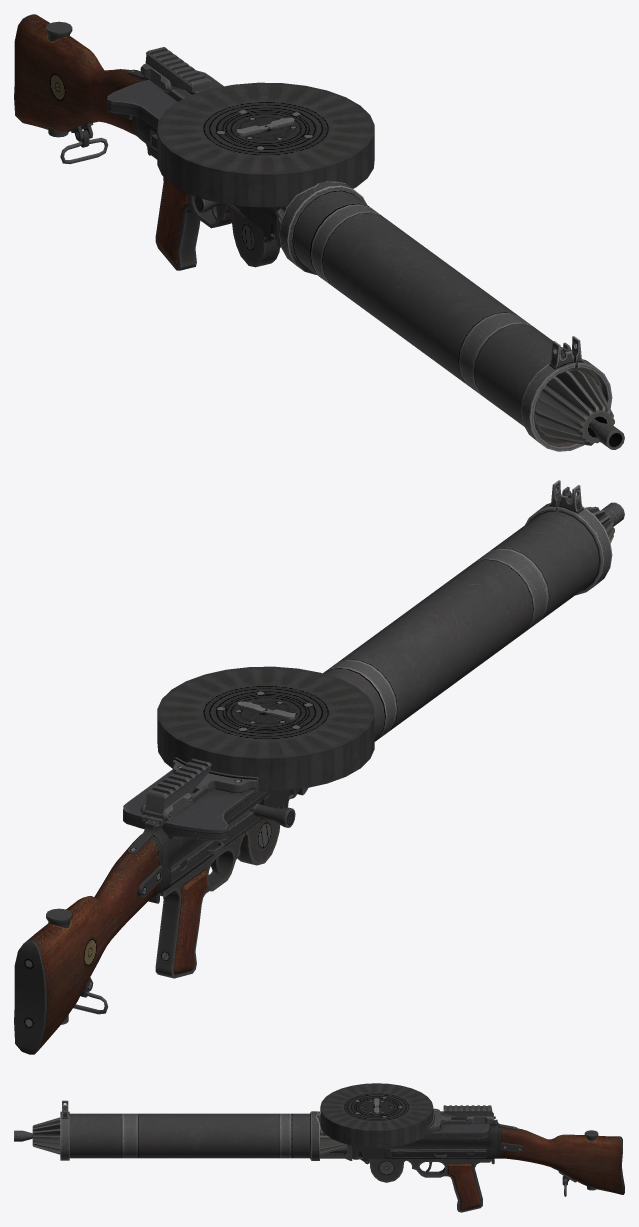
The model's file is raw.glb.
The picture shows the model from 3 angles, top to bottom: view 1: azimuth 30°, elevation 25°; view 2: azimuth 150°, elevation 25°; view 3: azimuth 270°, elevation 25°; orthographic projection. The views are drawn at different scales.
Visible parts, largest first — view 1: lewis_lmg_LOD0; view 2: lewis_lmg_LOD0; view 3: lewis_lmg_LOD0.
Boxes of the visible parts, box(x1,y1,x2,y2) form: lewis_lmg_LOD0: box(14, 14, 624, 451); lewis_lmg_LOD0: box(14, 480, 624, 1054); lewis_lmg_LOD0: box(14, 1083, 624, 1212).
Bounding box in the file's own units: 0.1898 × 0.1989 × 1.02.
Materials: 1 (1 with a texture image).
